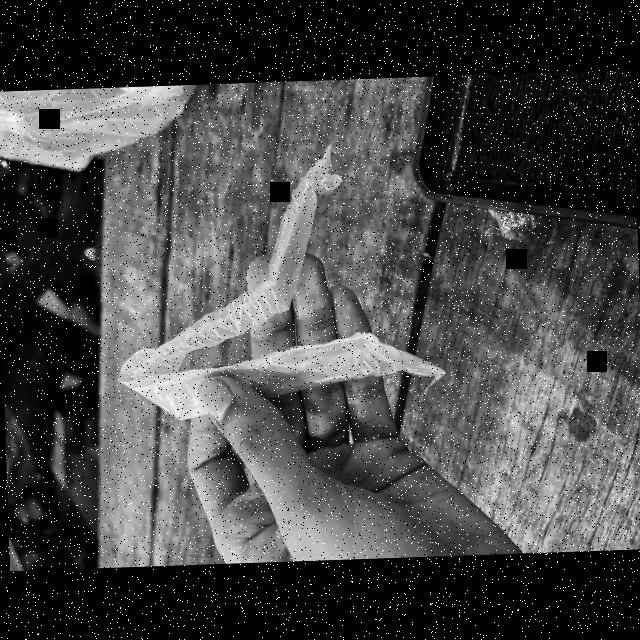scrap_plastic: (99, 148, 435, 444)
